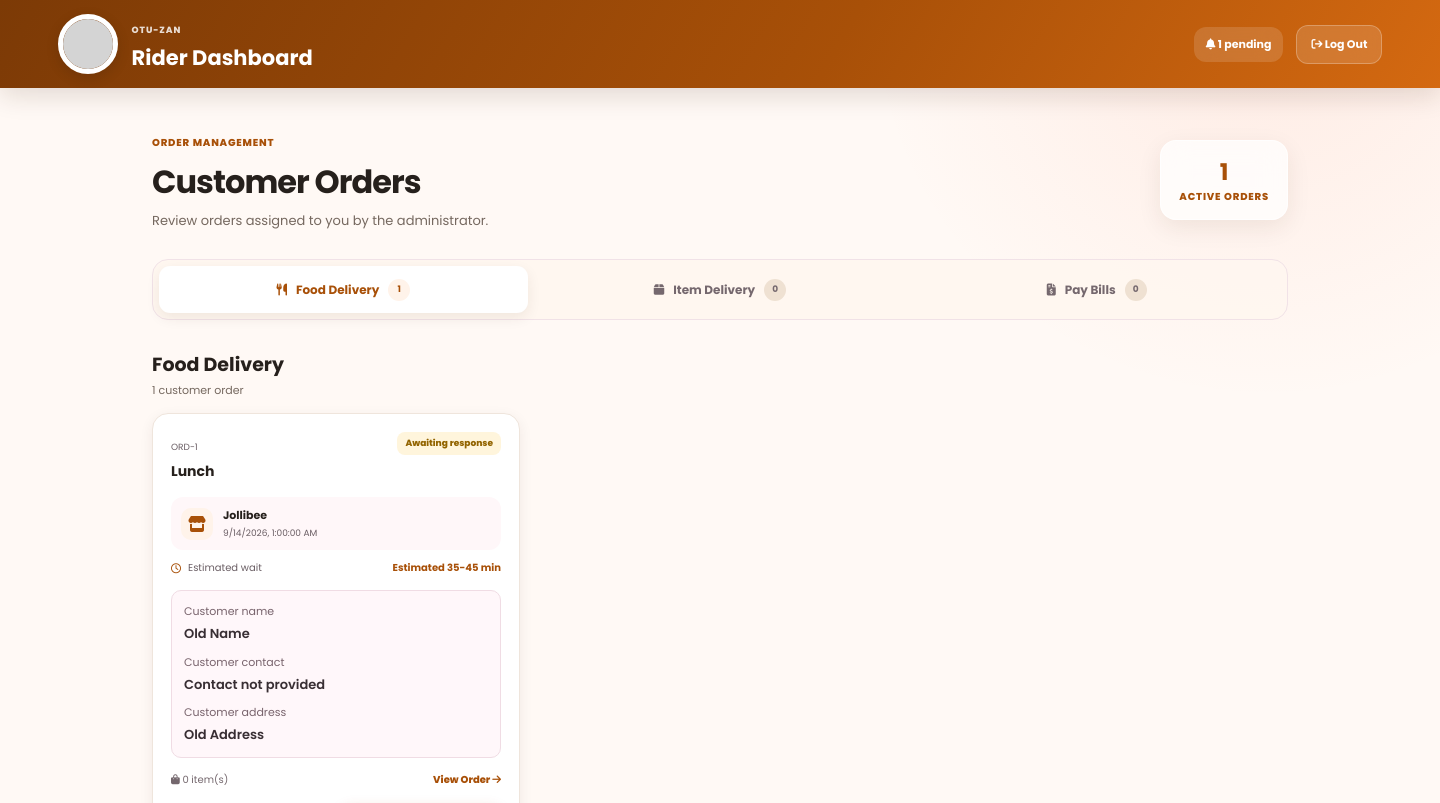
it: saved profile refreshes driver cards and detail views without changing assignment
The width and height of the screenshot is (1440, 803).
Click the button "View Order" at (467, 780), box [433,772,501,788]
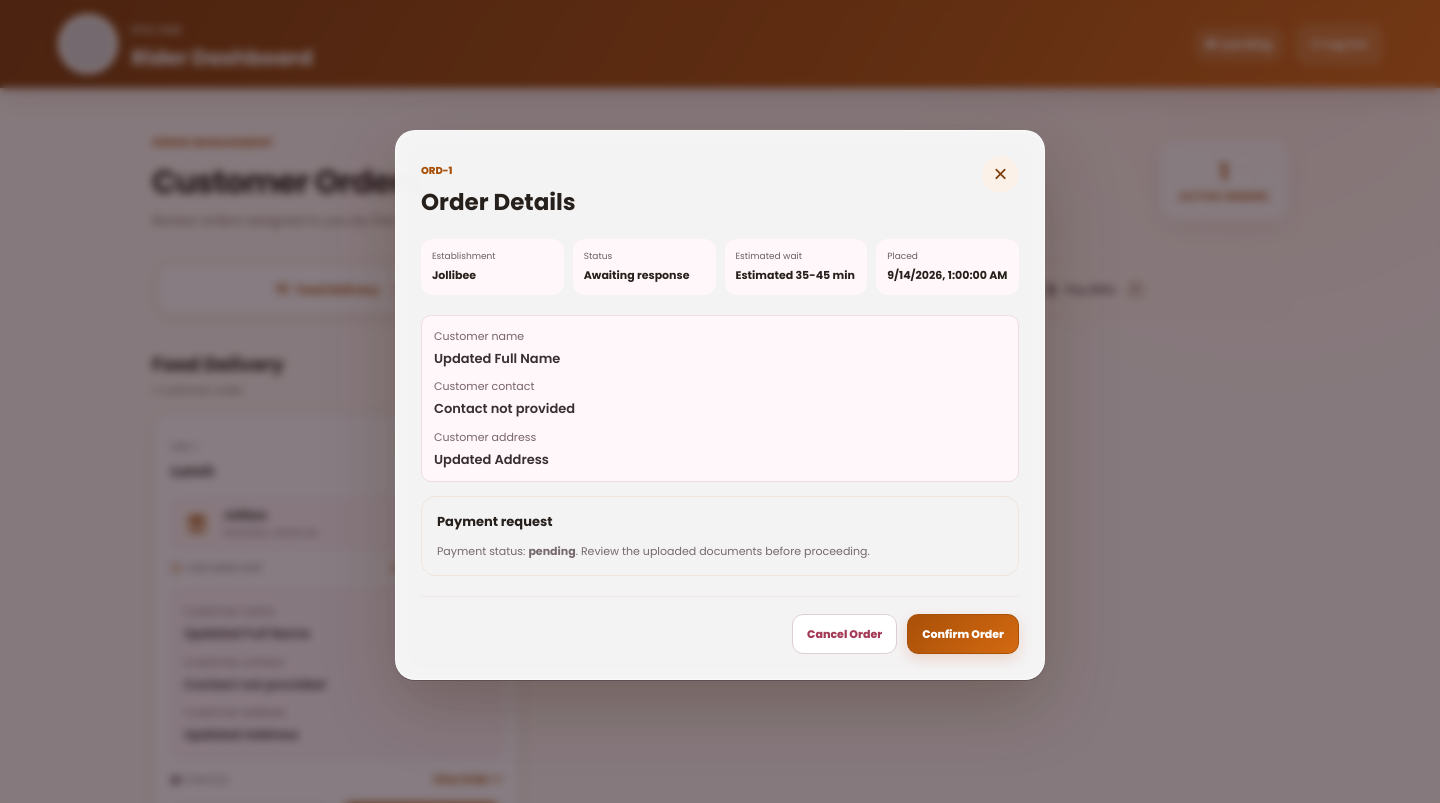
Check: the text "Old Name" is gone
Check: the text "Updated Full Name" below "Lunch" is shown, box [184,624,310,643]
Check: the text "Updated Address" below "Lunch" is shown, box [184,725,299,744]
